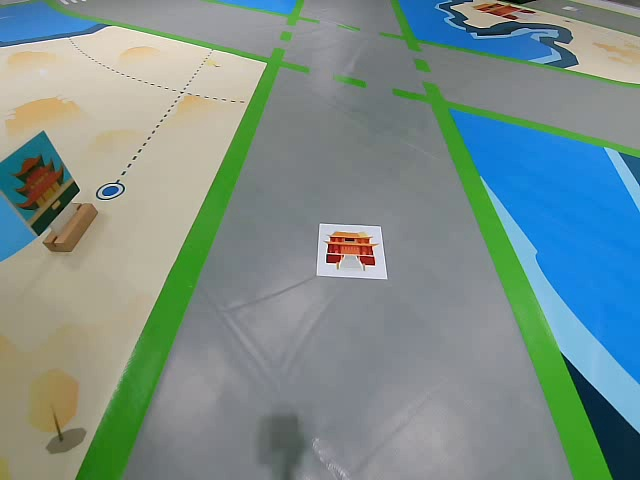dengGaoZuoFu: (311, 214, 387, 281)
yueYangGe: (1, 129, 85, 241)
